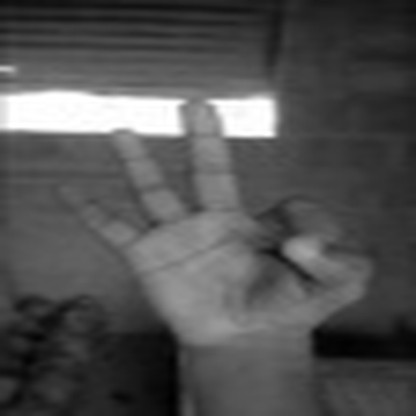f: (36, 73, 379, 347)
